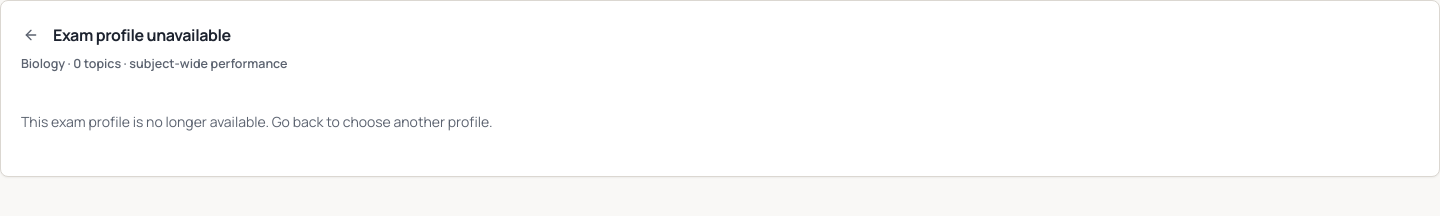
Test case: Home statistics drill-down › handles empty data, a removed profile and a removed subject without stale details
The width and height of the screenshot is (1440, 216).
Earlier steps of the test are not shown.
Later steps or results of the test are not shown.
Expected: the text "This exam profile is no longer available" is shown, [21,112,492,131]
Click the button named "Back to exam profiles". click: point(31, 35)
box: [17,21,45,49]
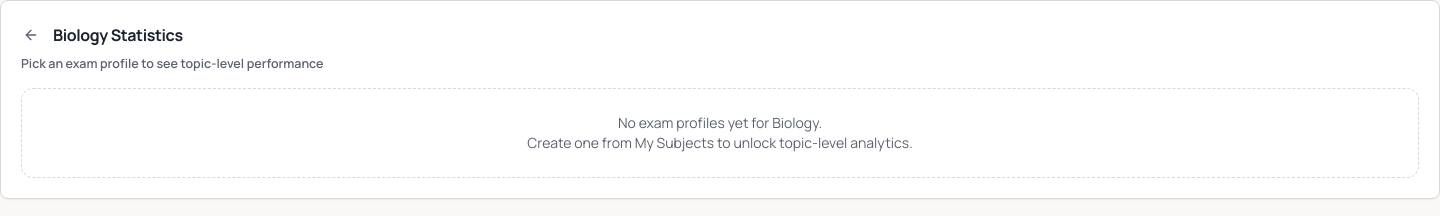
Now the text "No exam profiles yet for Biology" is shown, box [21,88,1419,178]
